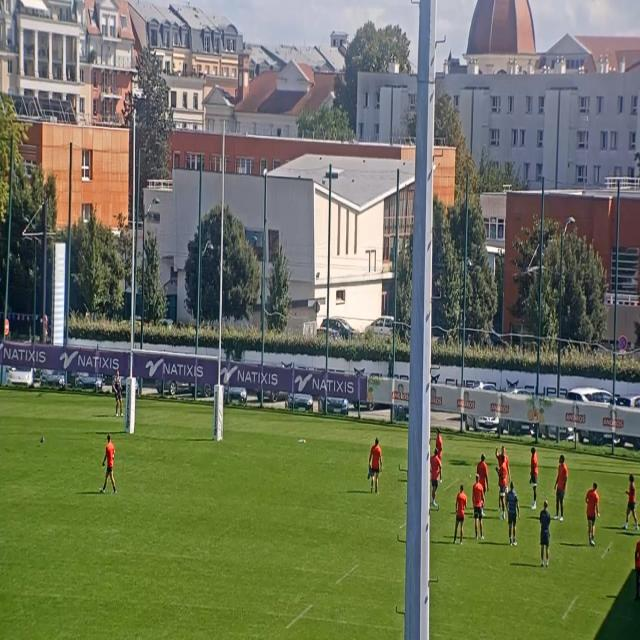rugby play: (367, 425, 384, 495), (584, 474, 600, 547), (109, 363, 127, 424), (102, 432, 117, 504), (556, 452, 572, 519), (538, 502, 552, 570), (496, 445, 510, 504), (528, 443, 541, 506), (472, 473, 484, 539), (454, 483, 466, 546), (506, 484, 517, 548), (626, 473, 638, 530), (432, 448, 442, 502), (479, 452, 488, 503)
